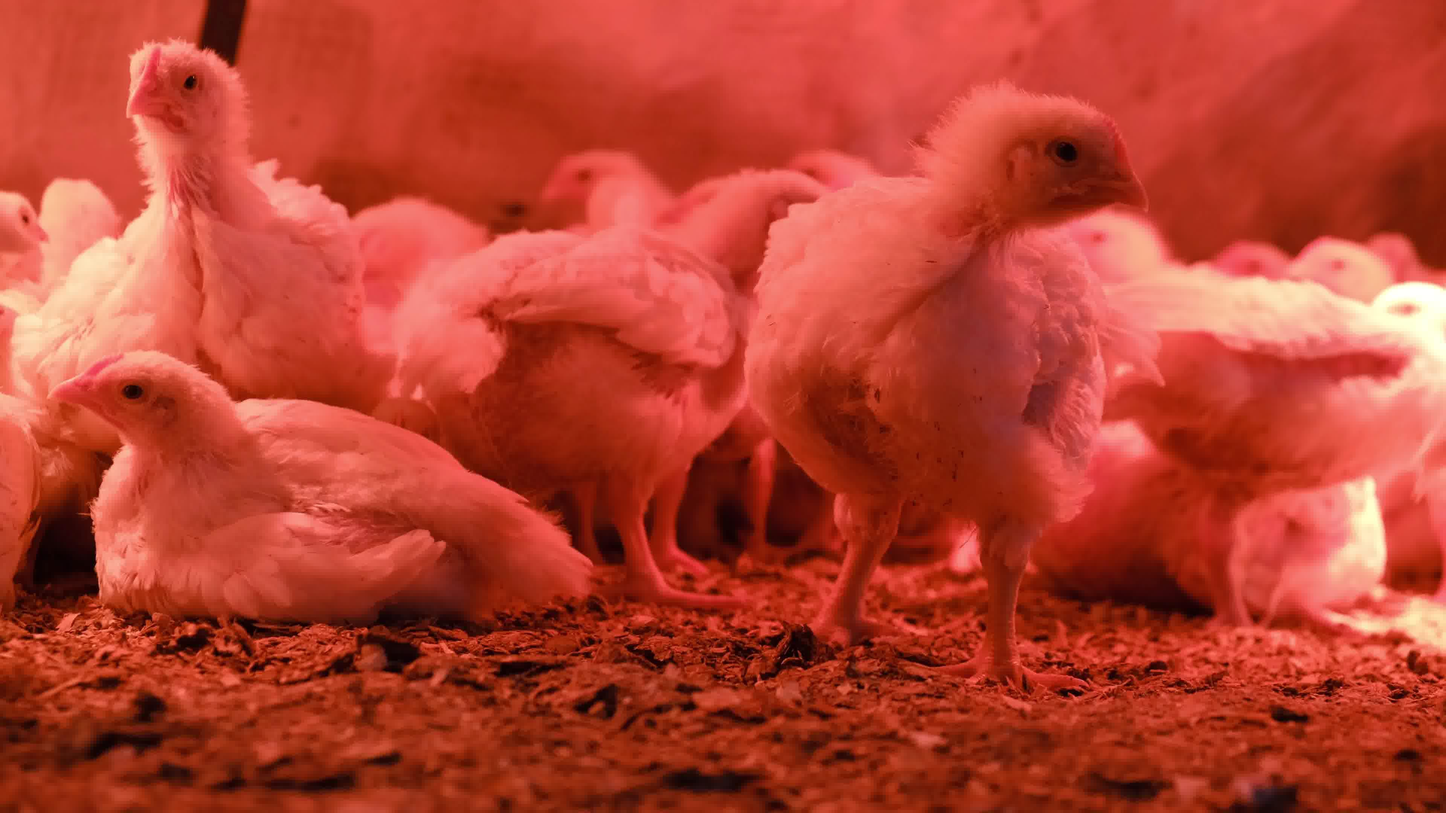AbNormal: (4, 344, 629, 651)
Normal: (755, 88, 1128, 700), (412, 171, 781, 608), (1090, 258, 1446, 642), (28, 24, 380, 369), (0, 166, 120, 271)
